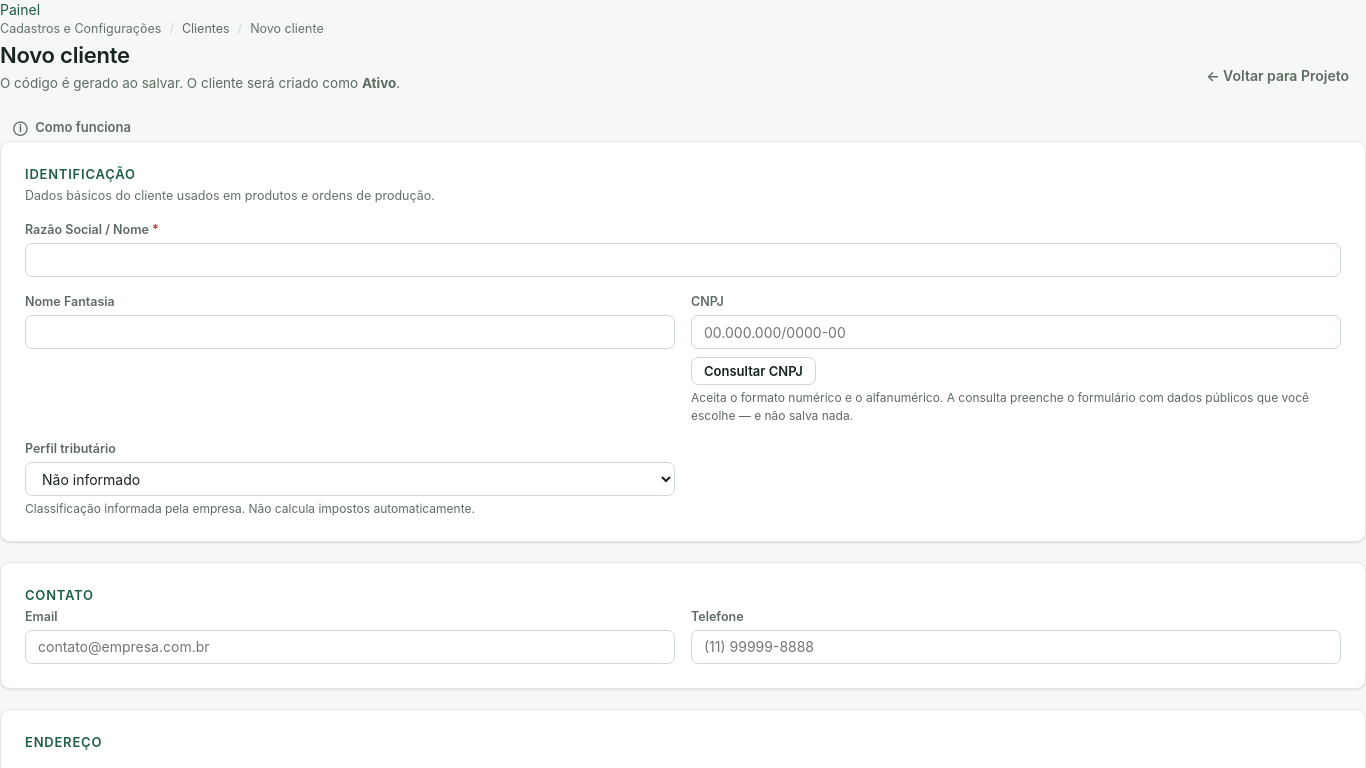
Test: Cliente novo — guarda de alterações não salvas › criação contextual: o rascunho que volta continua sendo alteração
The width and height of the screenshot is (1366, 768).
Check: the heading "Novo cliente" is shown, box [0,42,130,68]
In the field with id "customer-legal-name": {"x": 683, "y": 260} [25,243,1341,277], type "IGEIA Suplementos LTDA"
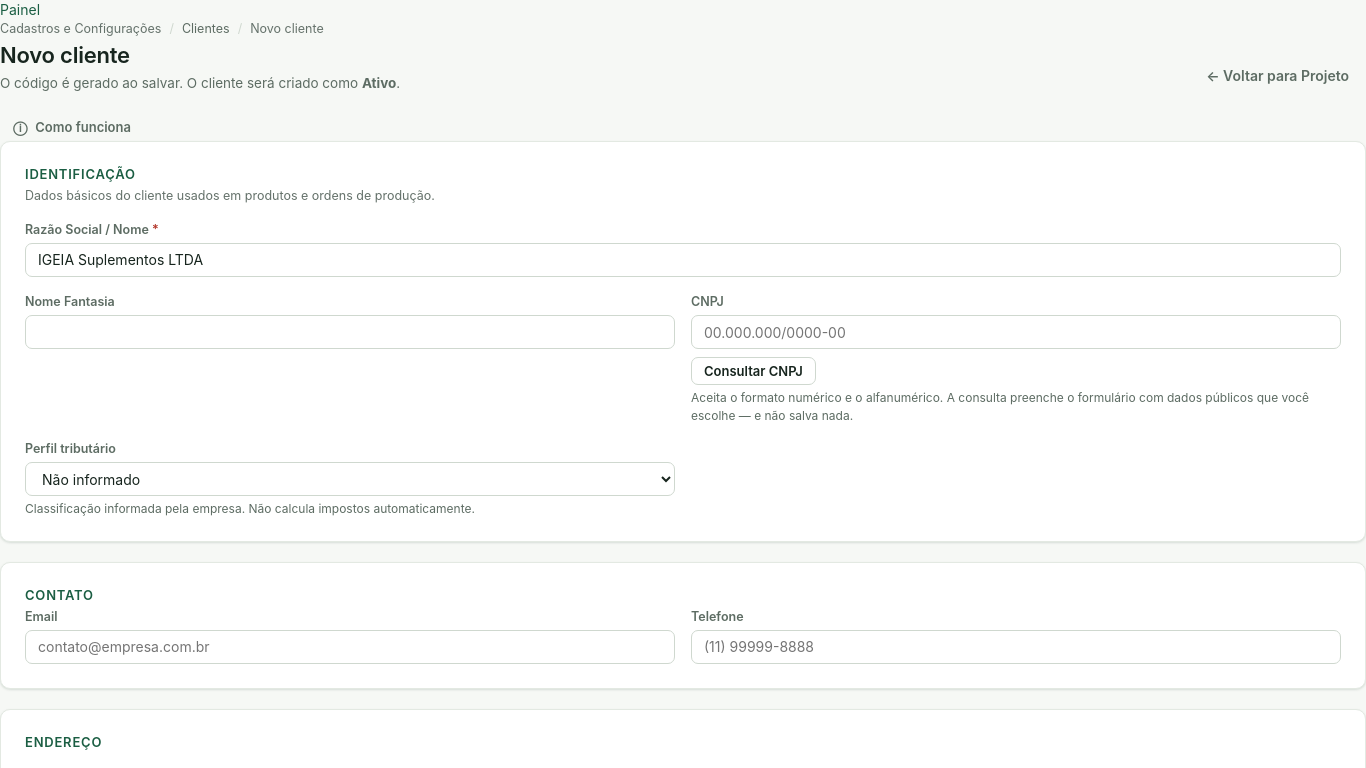
Note: O caminho de volta do contexto continua na tela, e continua protegido.
Click the button "← Voltar para Projeto": {"x": 1278, "y": 76} [1189,60,1365,94]
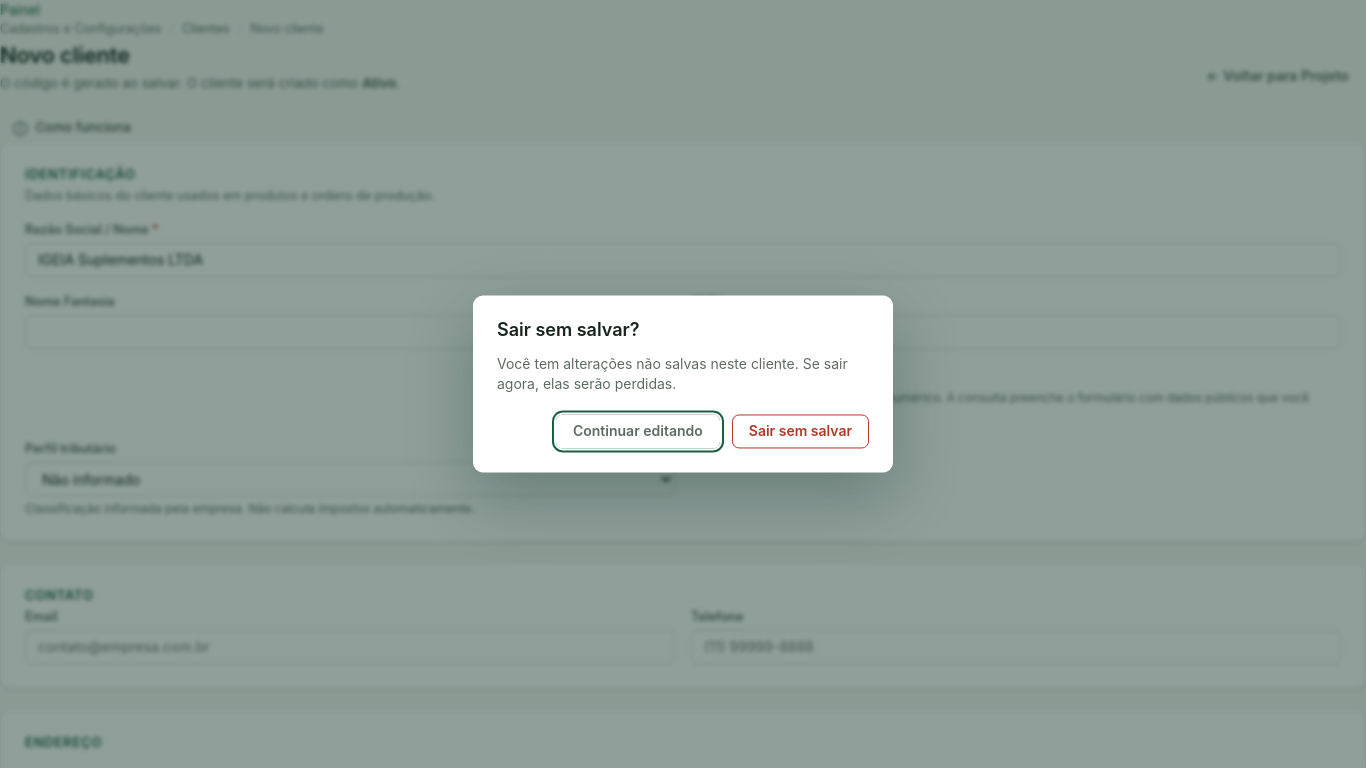
Check: the heading "Sair sem salvar?" is shown, box [497,320,640,340]
Click the button "Sair sem salvar": {"x": 800, "y": 432} [732,414,869,448]
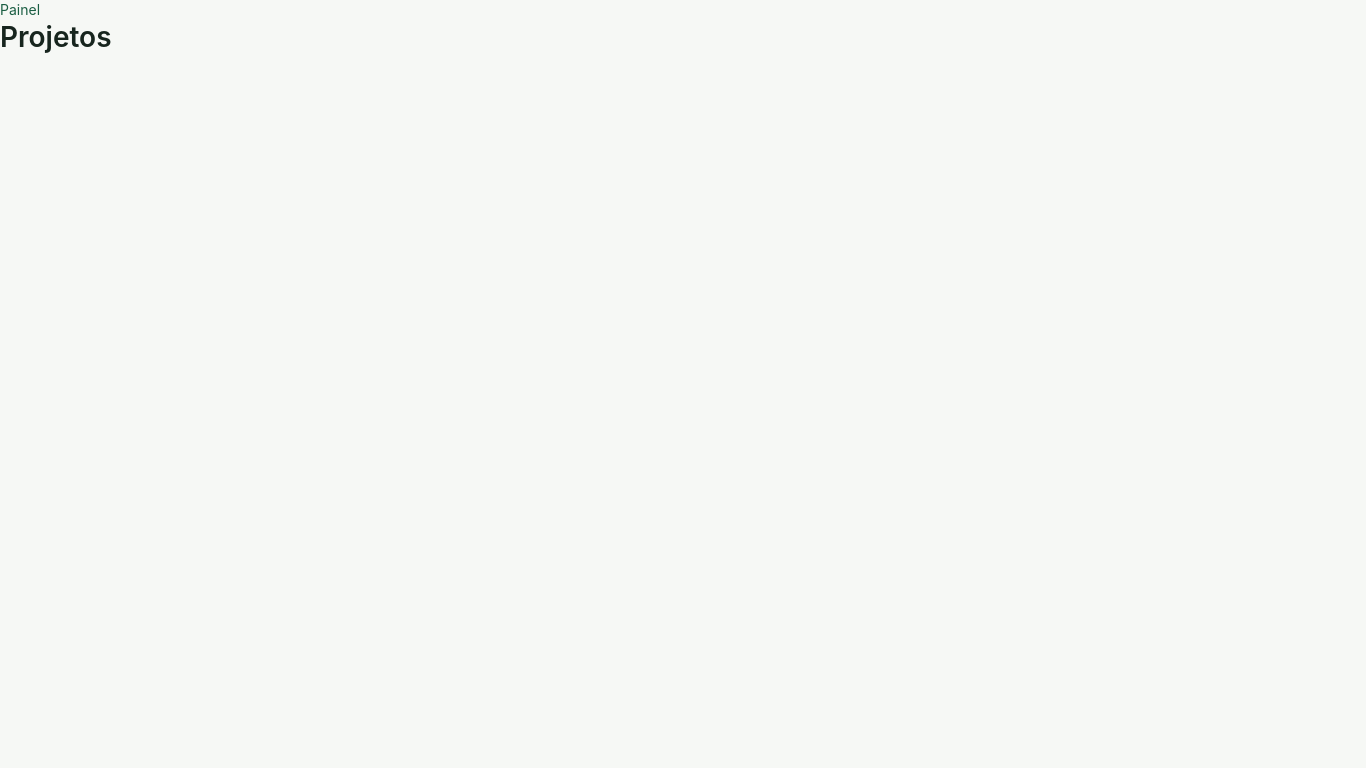
Check: the heading "Projetos" is shown, box [0,20,112,54]
